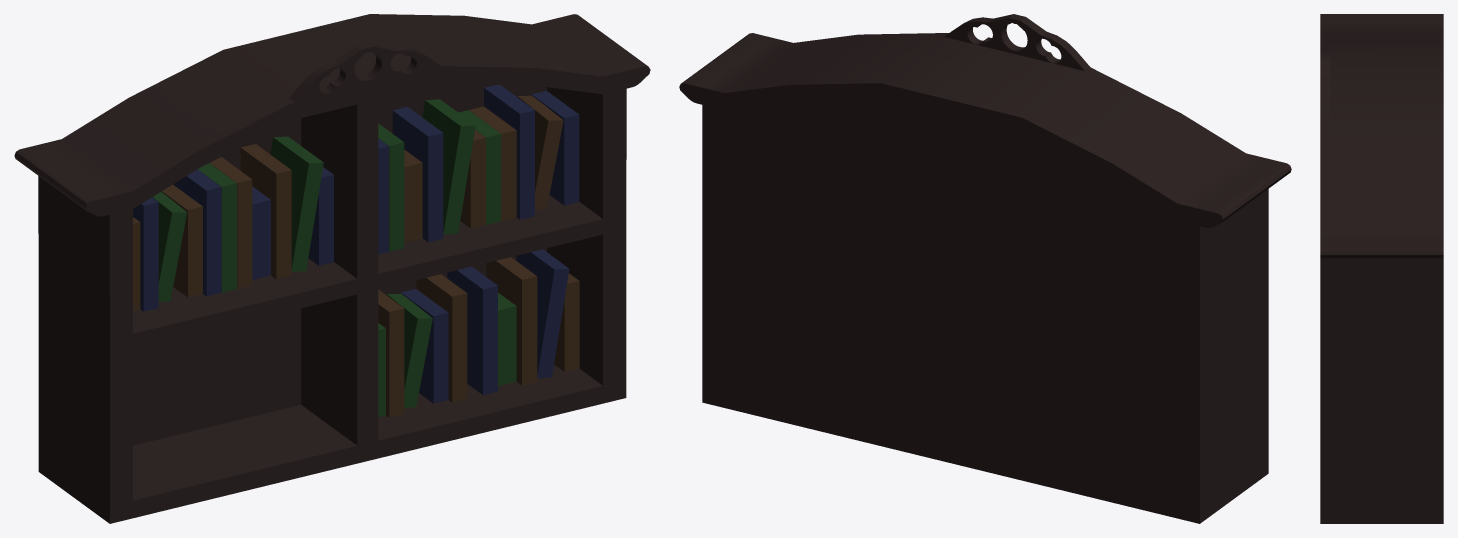
File: low_bookshelf.fbx
3 renders of one model, left to right at view 1: azimuth 30°, elevation 25°; view 2: azimuth 150°, elevation 25°; view 3: azimuth 270°, elevation 25°, orthographic. The views are drawn at different scales.
Parts seen in each view (by area): view 1: polySurface3, pCube33, pCube9, pCube47, pCube48, pCube8, pCube34, pCube35, pCube4, pCube31, pCube43, pCube2 (+21 smaller); view 2: polySurface3; view 3: polySurface3.
Part boxes in pixels (<box>): polySurface3: <box>14,14,650,523</box>; pCube33: <box>447,266,497,394</box>; pCube9: <box>392,106,443,242</box>; pCube47: <box>240,144,291,279</box>; pCube48: <box>270,136,323,271</box>; pCube8: <box>422,99,475,234</box>; pCube34: <box>486,257,537,385</box>; pCube35: <box>516,249,569,378</box>; pCube4: <box>484,85,534,219</box>; pCube31: <box>416,274,467,402</box>; pCube43: <box>173,169,221,296</box>; pCube2: <box>531,90,579,205</box>; polySurface3: <box>679,14,1291,523</box>; polySurface3: <box>1320,14,1443,523</box>.
Size of the model in its own units: 2.13 by 1.49 by 0.4666.
